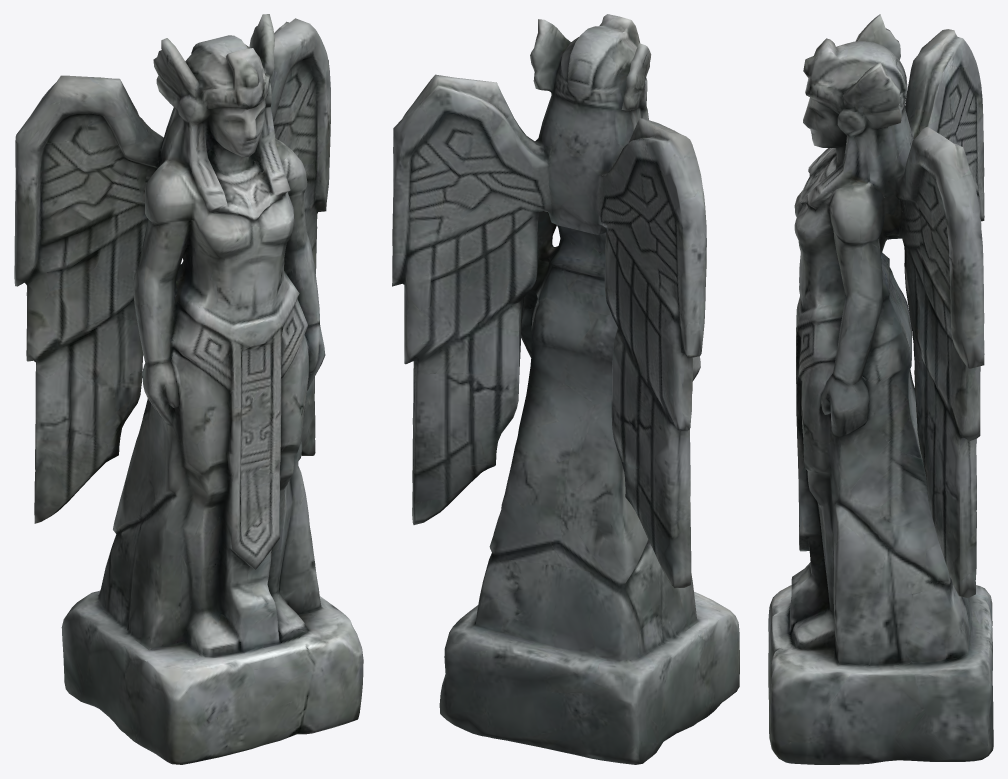
Rendered from p_fairtymotherstatues.glb.
3 views of the same model, side by side, from view 1: azimuth 30°, elevation 25°; view 2: azimuth 150°, elevation 25°; view 3: azimuth 270°, elevation 25° (orthographic).
Size of the model in its own units: 0.9199 by 1.91 by 0.5758.
1 material, 1 textured.
